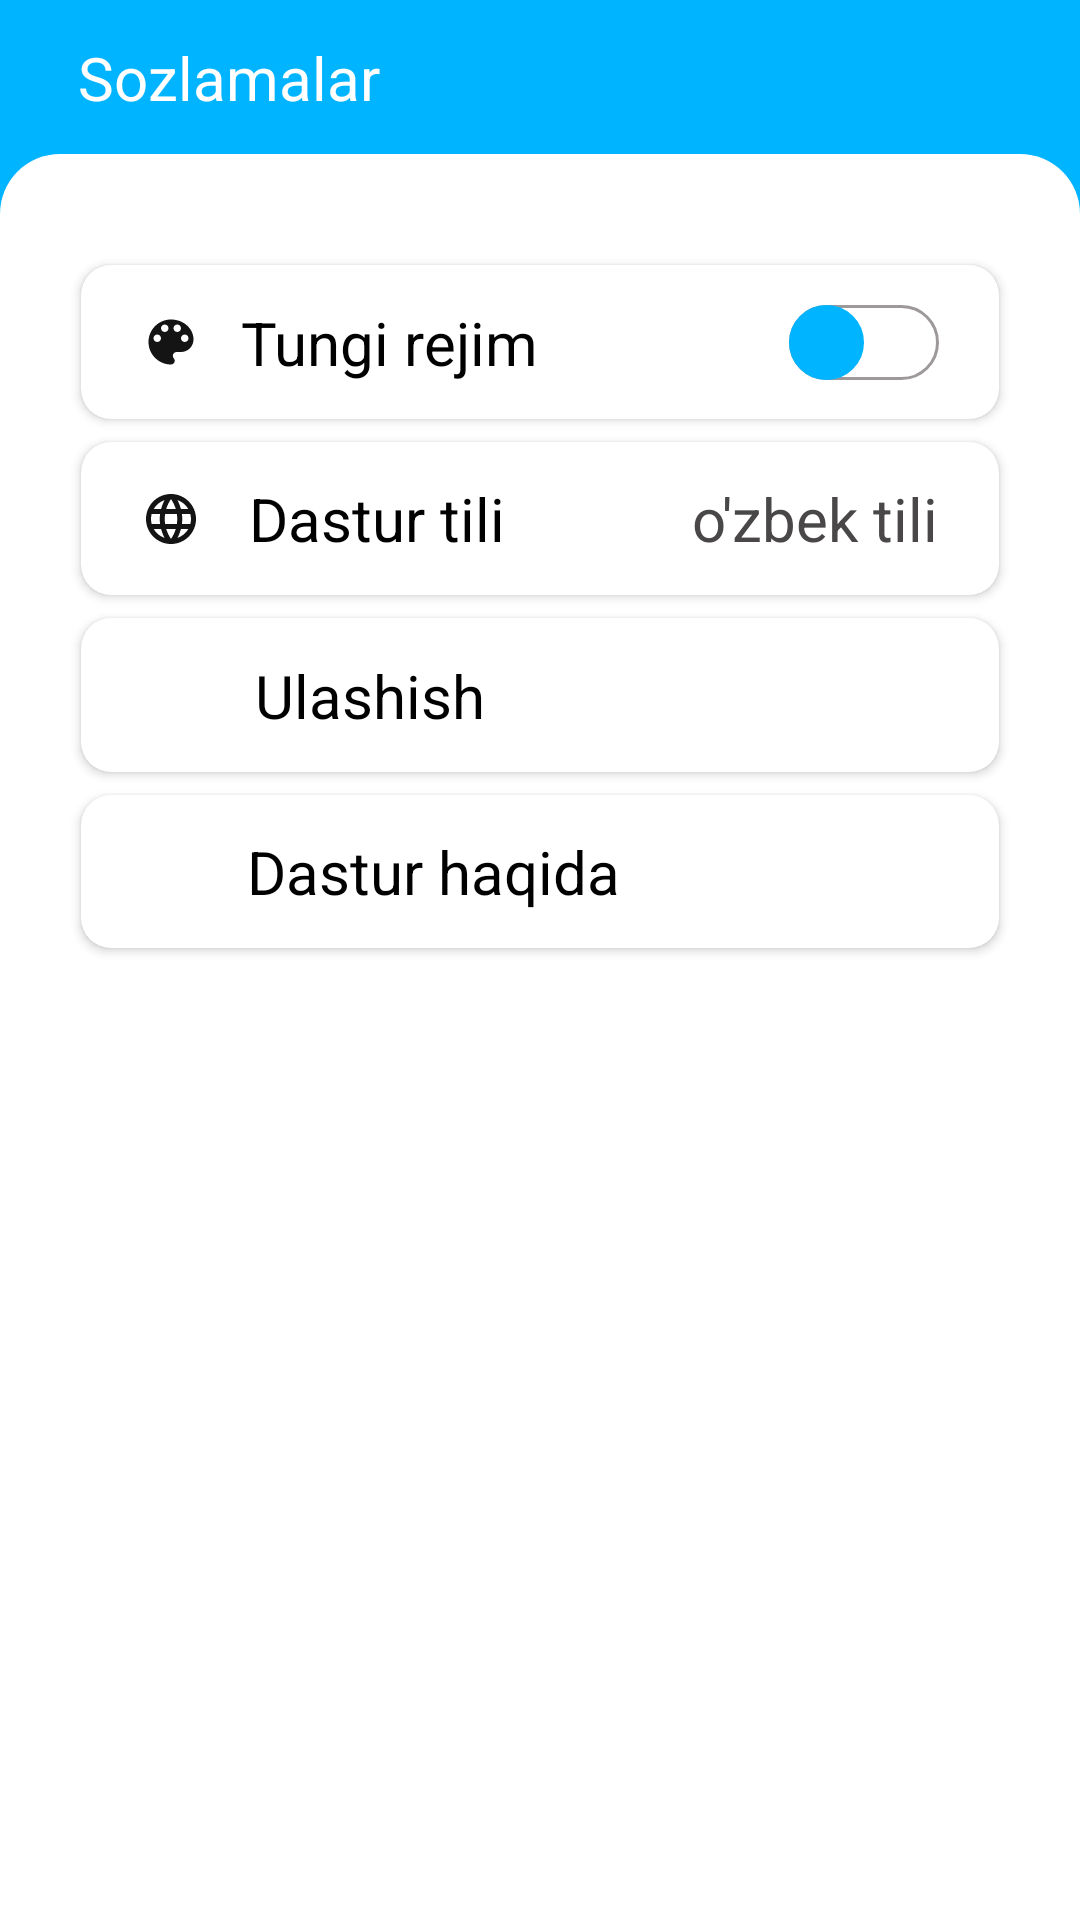

Named icons in this screenshot (1080 x 1920) and their centers, [x,y]:
language: [171,519]
